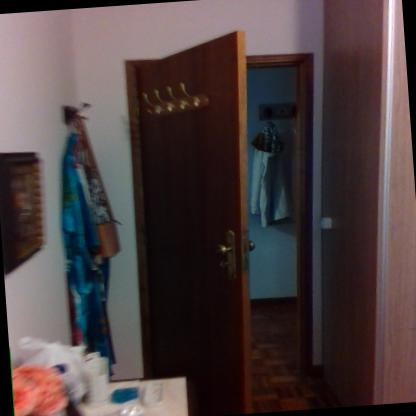semi: (115, 13, 353, 414)
